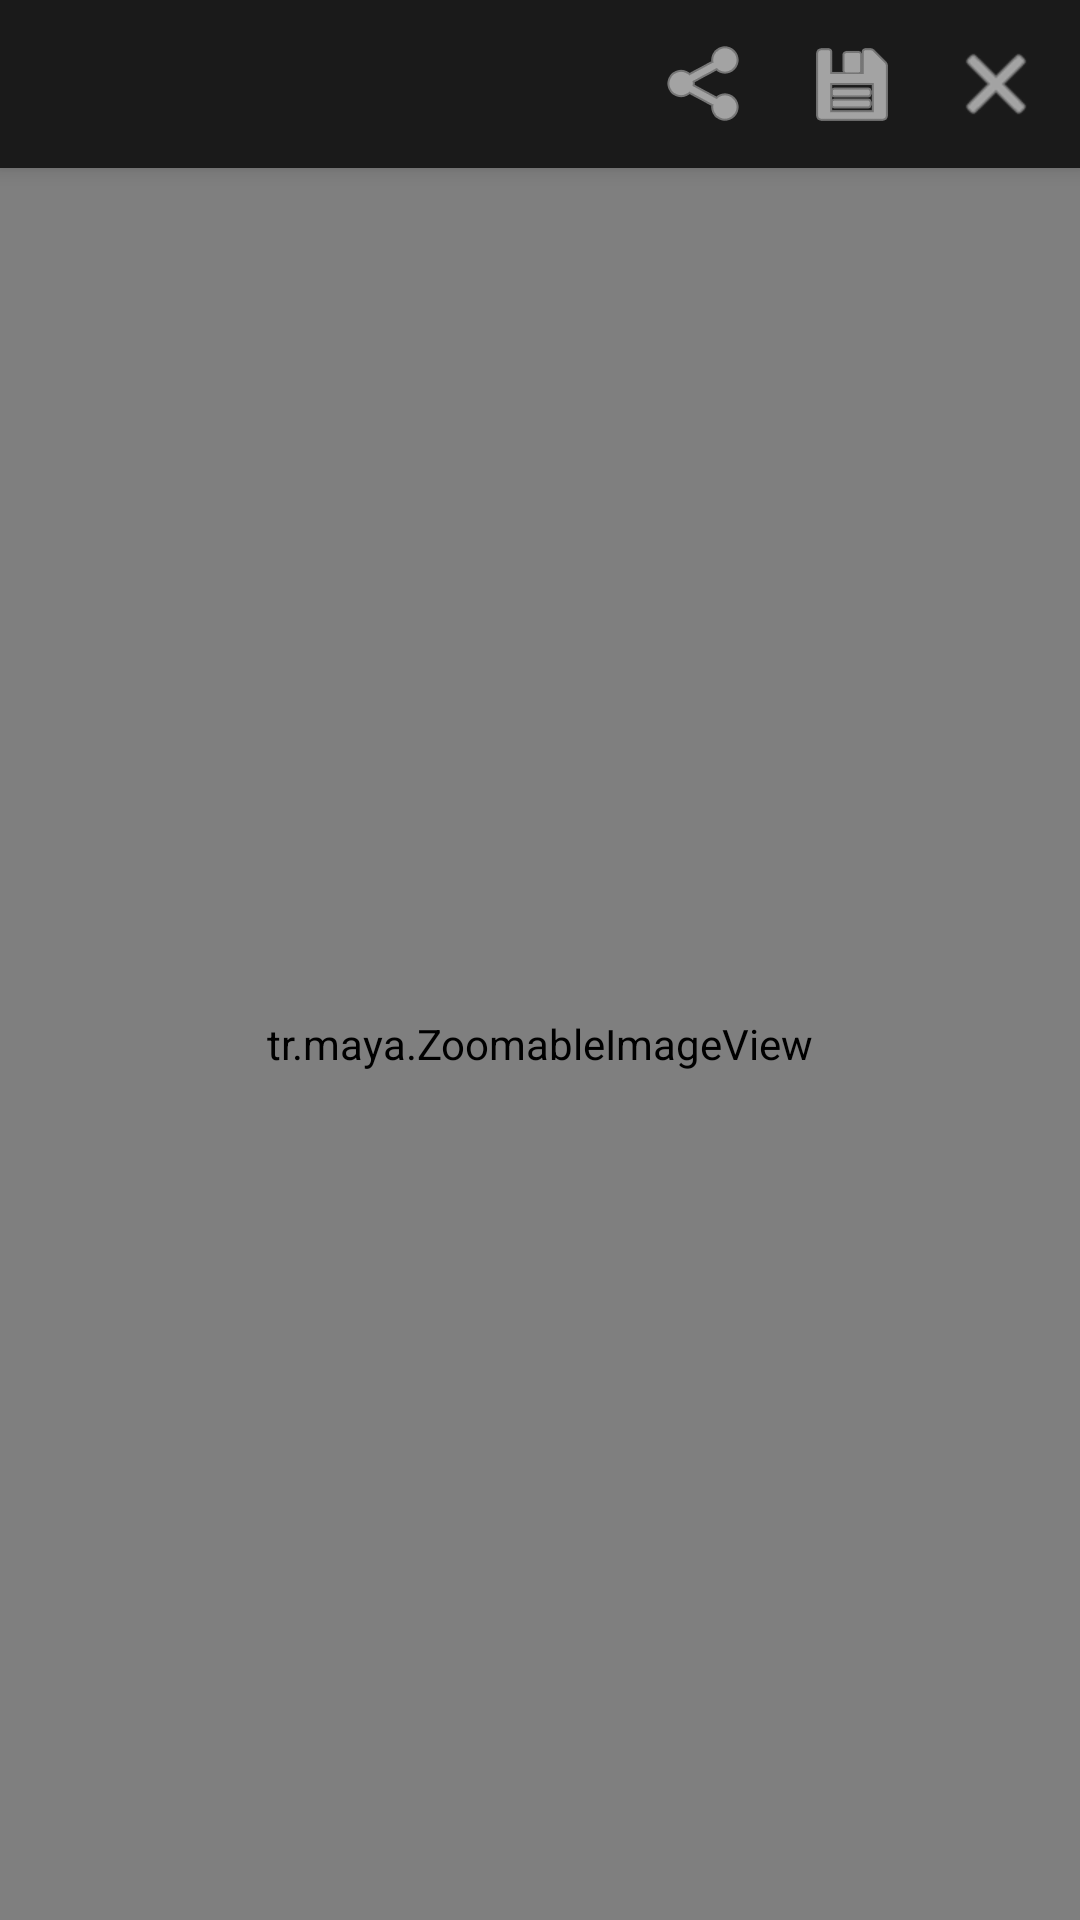

Where to tap for icons on this 1080w x 1920h app screen, as (x=x, y=y):
Galeriye Kaydet: (x=852, y=84)
Kapat: (x=996, y=84)
Paylaş: (x=703, y=83)
